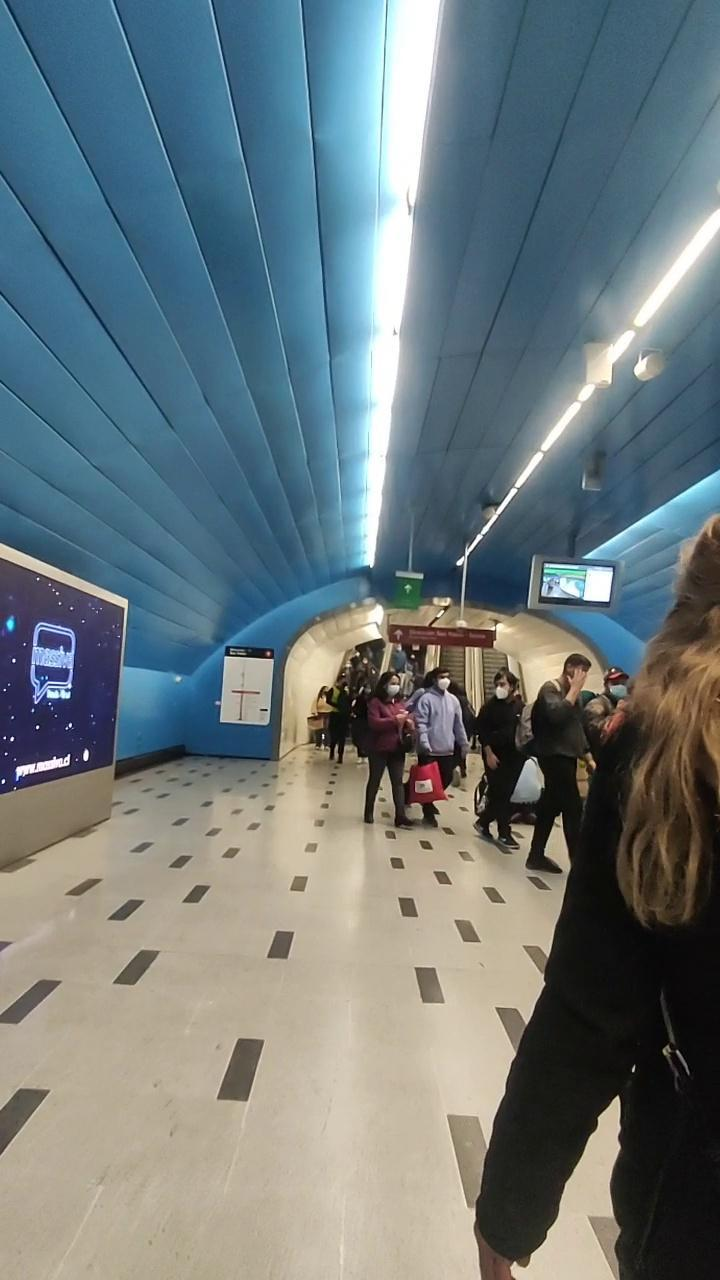up arrow: (393, 627, 406, 643)
